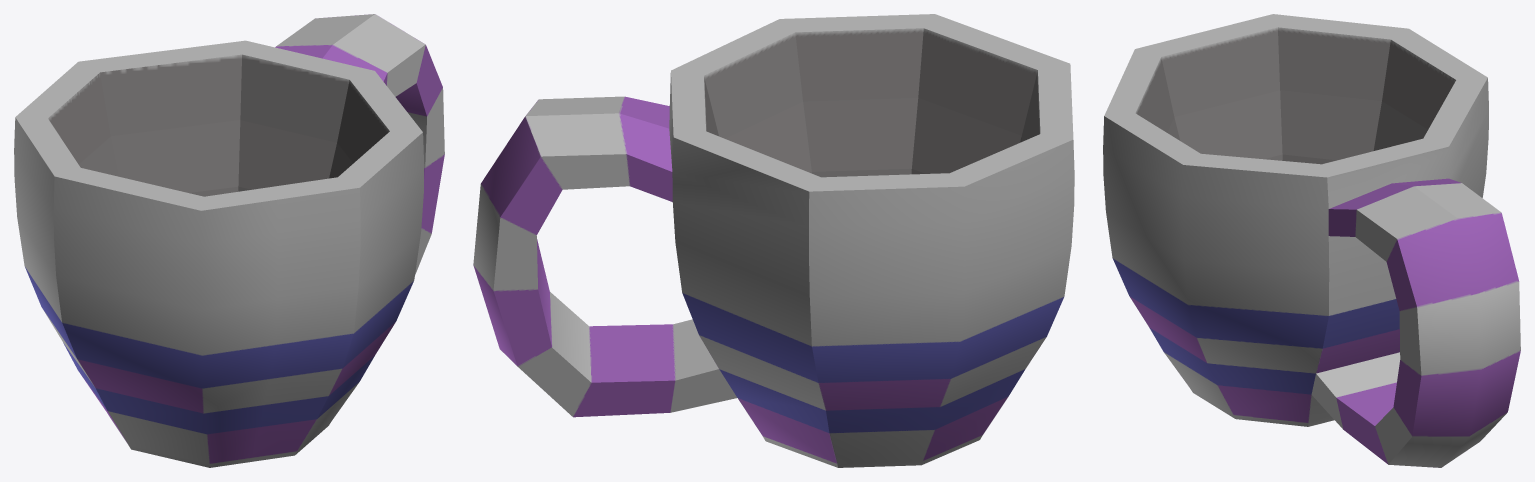
Rendered from Taza.FBX.
The picture shows the model from 3 angles, left to right: view 1: azimuth 30°, elevation 25°; view 2: azimuth 150°, elevation 25°; view 3: azimuth 270°, elevation 25°; orthographic projection. The views are drawn at different scales.
Visible parts, largest first — view 1: Taza 1; view 2: Taza 1; view 3: Taza 1.
Boxes of the visible parts, x1=… form: Taza 1: x1=14, y1=14, x2=444, y2=467; Taza 1: x1=473, y1=14, x2=1074, y2=467; Taza 1: x1=1103, y1=14, x2=1520, y2=467.
Bounding box in the file's own units: 20.69 × 12.54 × 16.62.
Materials: 1 (1 with a texture image).
